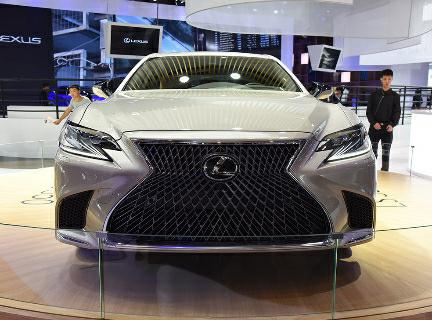雷克萨斯-LS: (47, 45, 384, 267)
